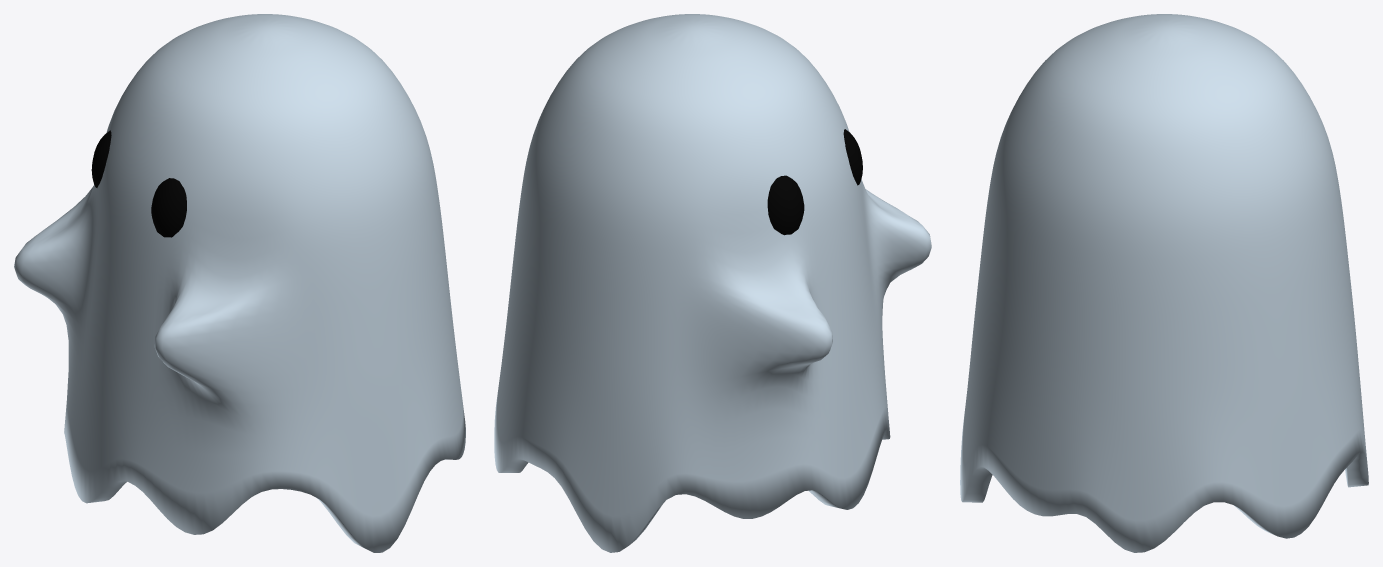
The model's file is Ghost_2 (1).fbx.
The picture shows the model from 3 angles, left to right: view 1: azimuth 30°, elevation 25°; view 2: azimuth 150°, elevation 25°; view 3: azimuth 270°, elevation 25°; orthographic projection. The views are drawn at different scales.
Visible parts, largest first — view 1: Cylinder; view 2: Cylinder; view 3: Cylinder.
Boxes of the visible parts, <box> form: Cylinder: <box>14,14,465,552</box>; Cylinder: <box>494,14,931,552</box>; Cylinder: <box>960,14,1368,552</box>.
Size of the model in its own units: 211 by 250 by 199.
